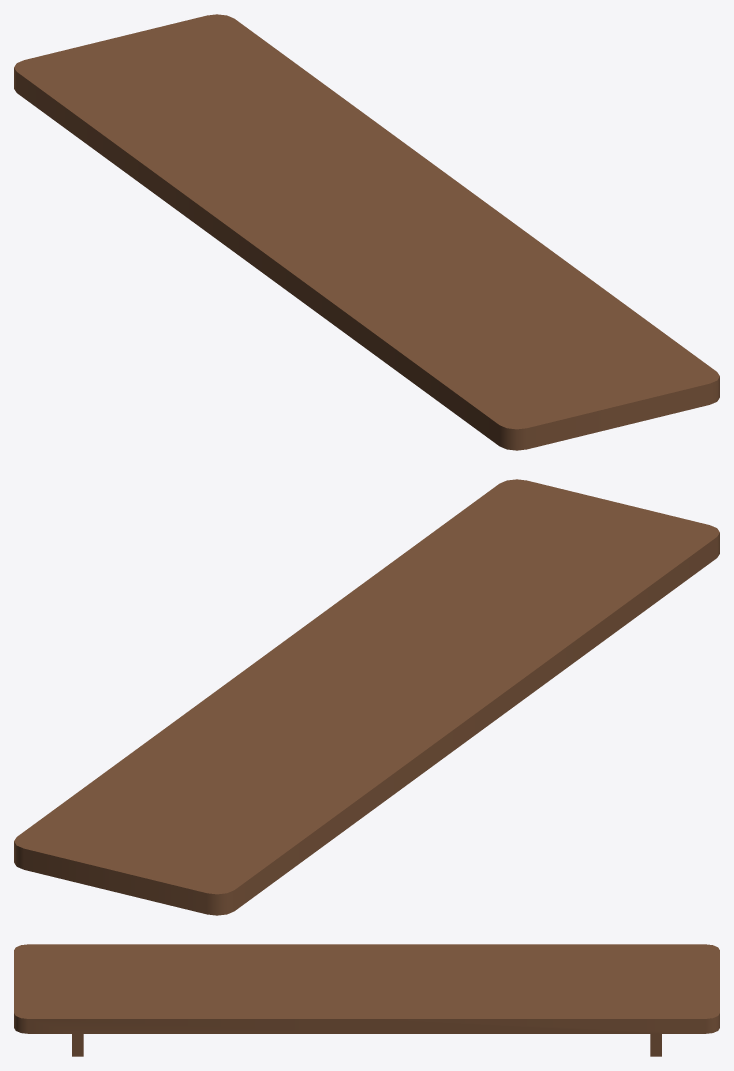
Rendered from 106_shelf_long_var1.glb.
The picture shows the model from 3 angles, top to bottom: view 1: azimuth 30°, elevation 25°; view 2: azimuth 150°, elevation 25°; view 3: azimuth 270°, elevation 25°; orthographic projection. The views are drawn at different scales.
Parts seen in each view (by area): view 1: Plane; view 2: Plane; view 3: Plane.
Boxes of the visible parts, x1,y1,x2,y2 form: Plane: (14,14,719,450); Plane: (14,479,719,915); Plane: (14,944,719,1056).
Size of the model in its own units: 0.75 by 0.1765 by 3.
